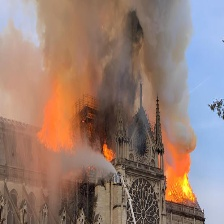fire: (168, 163, 198, 205), (102, 143, 116, 164)
smoke: (1, 1, 198, 145)
